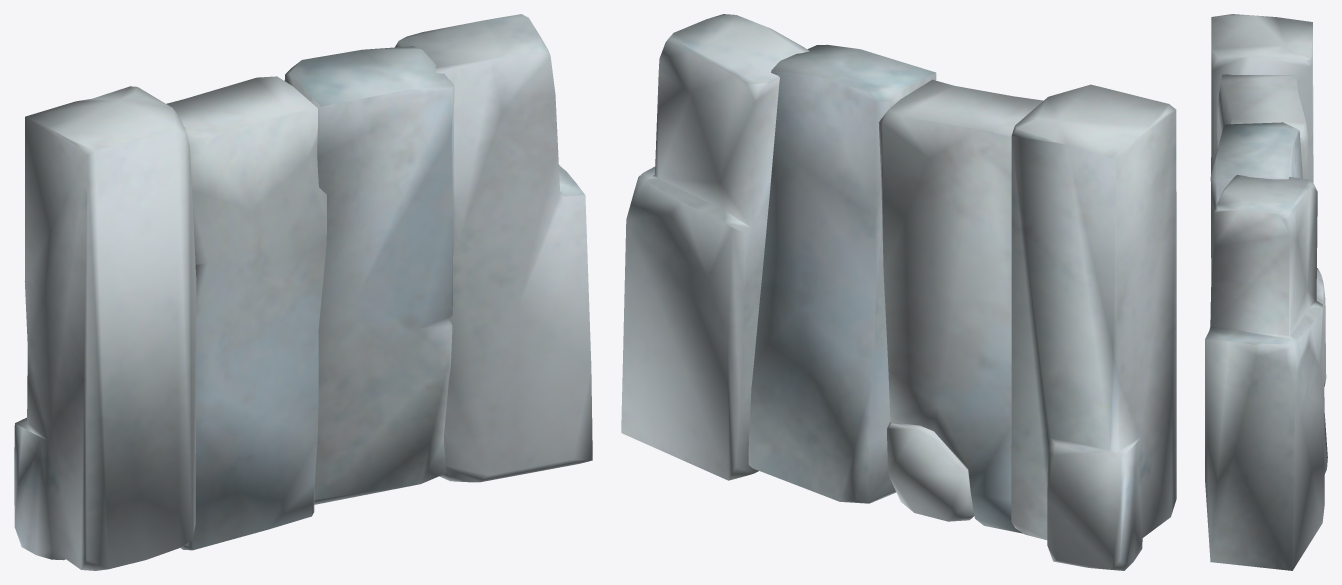
File: P_CubicCliff12.obj
3 renders of one model, left to right at view 1: azimuth 30°, elevation 25°; view 2: azimuth 150°, elevation 25°; view 3: azimuth 270°, elevation 25°, orthographic. The views are drawn at different scales.
Bounding box in the file's own units: 60.64 × 47.54 × 14.92.
